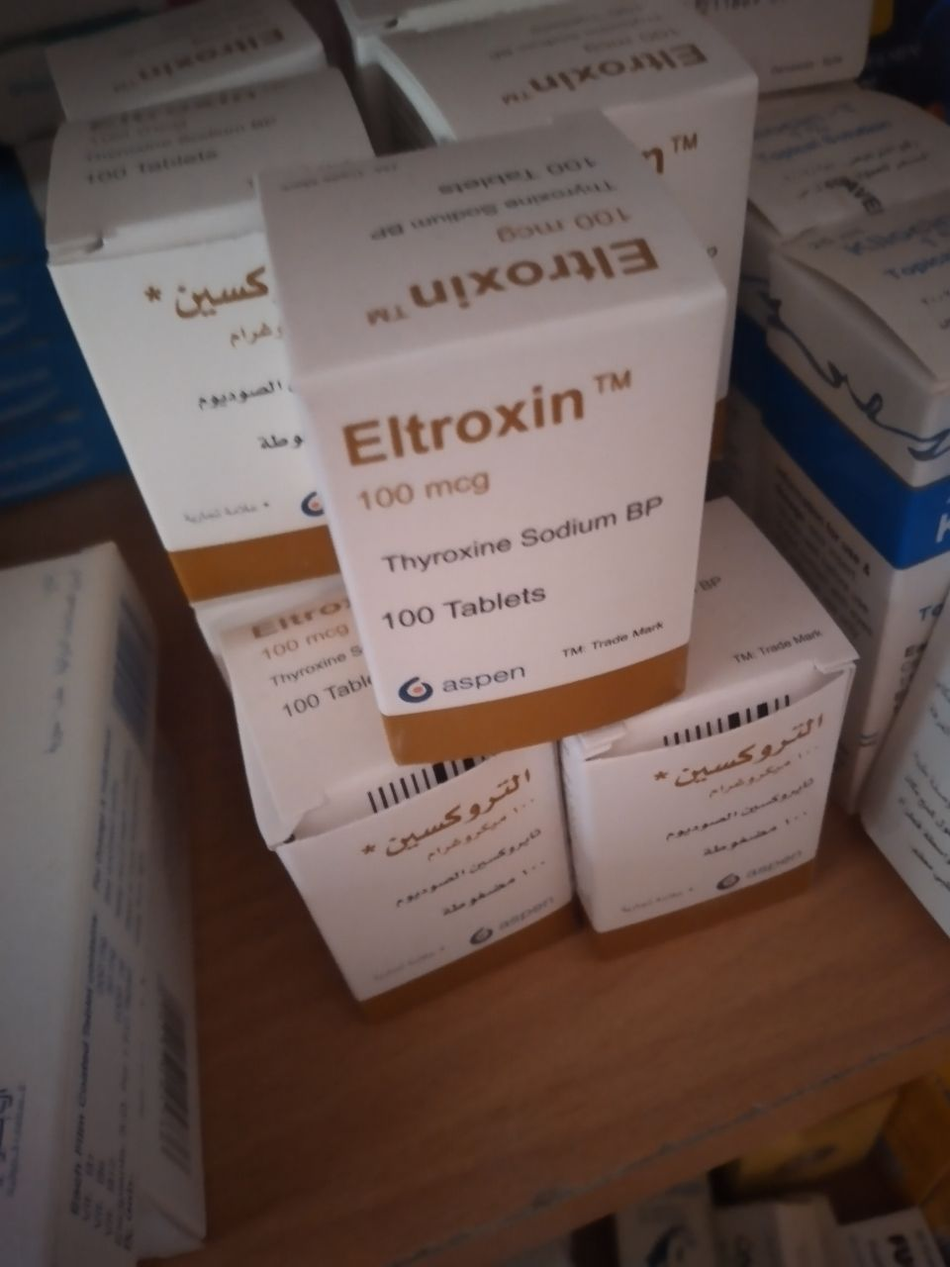Medicine: (257, 142, 722, 802), (26, 112, 346, 650), (247, 670, 587, 1056), (577, 617, 858, 973)
